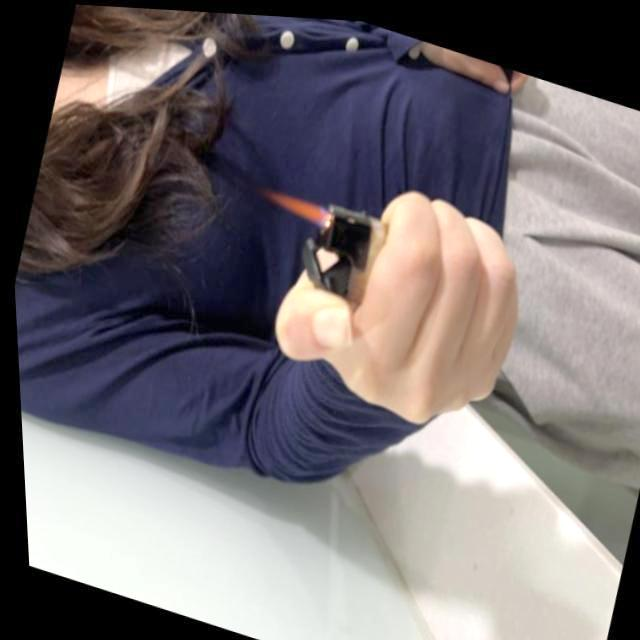fire: (261, 183, 327, 221)
